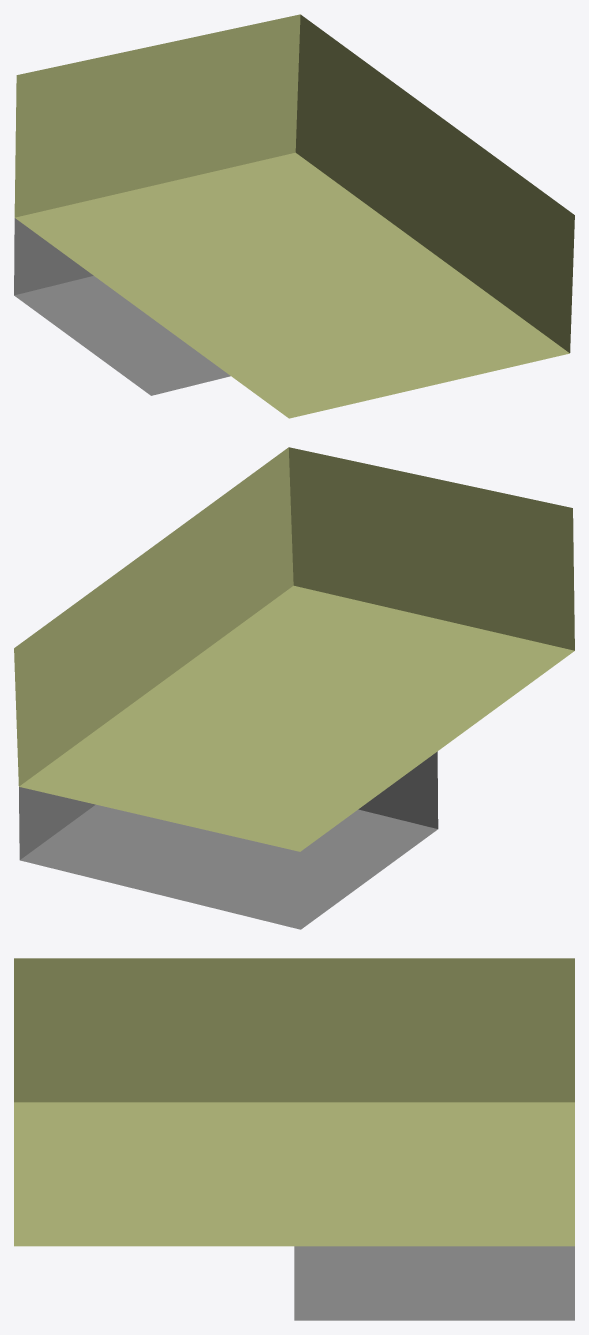
3 renders of one model, top to bottom at view 1: azimuth 30°, elevation 25°; view 2: azimuth 150°, elevation 25°; view 3: azimuth 270°, elevation 25°, orthographic. The views are drawn at different scales.
Visible parts, largest first — view 1: 0_1_1_3_2_2_3_3_3_3_3_0; view 2: 0_1_1_3_2_2_3_3_3_3_3_0; view 3: 0_1_1_3_2_2_3_3_3_3_3_0.
Boxes of the visible parts, left/top/right/bottom form: 0_1_1_3_2_2_3_3_3_3_3_0: left=14, top=14, right=574, bottom=418; 0_1_1_3_2_2_3_3_3_3_3_0: left=14, top=447, right=574, bottom=929; 0_1_1_3_2_2_3_3_3_3_3_0: left=14, top=958, right=574, bottom=1320.
Size of the model in its own units: 3.62 by 2.65 by 6.
